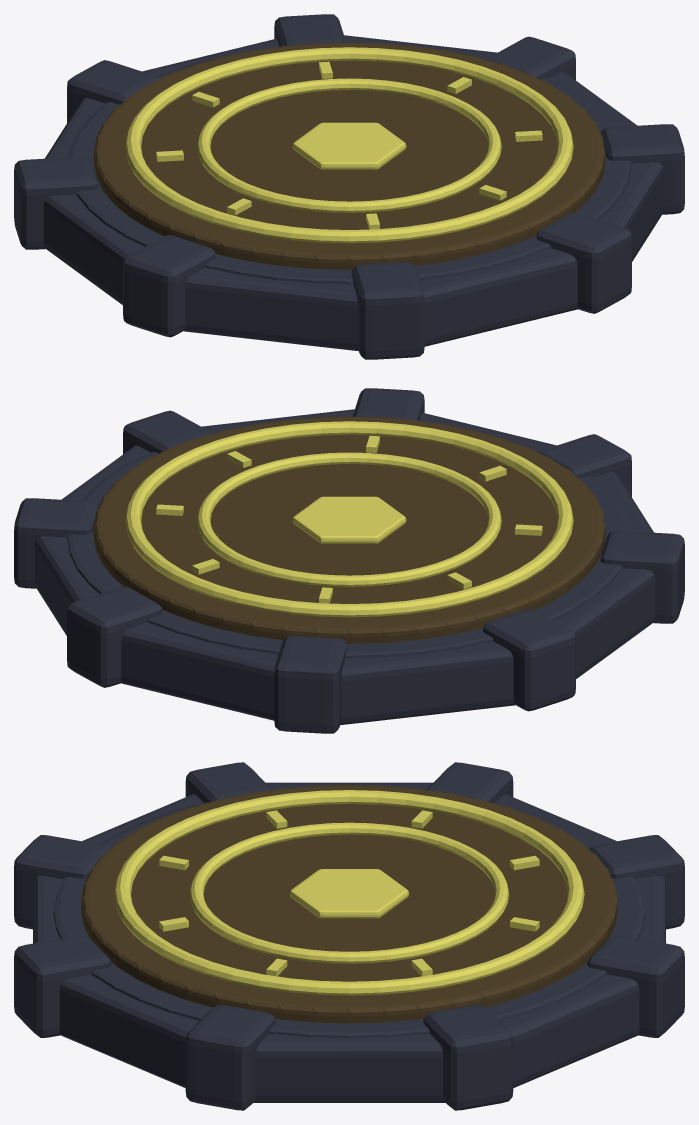
Rendered from AmberPlate.glb.
3 renders of one model, top to bottom at view 1: azimuth 30°, elevation 25°; view 2: azimuth 150°, elevation 25°; view 3: azimuth 270°, elevation 25°, orthographic. The views are drawn at different scales.
Parts seen in each view (by area): view 1: AmberPlate.001; view 2: AmberPlate.001; view 3: AmberPlate.001.
Boxes of the visible parts, bbox=[...] form: AmberPlate.001: bbox=[14, 14, 684, 359]; AmberPlate.001: bbox=[14, 388, 684, 733]; AmberPlate.001: bbox=[14, 762, 684, 1110].
Size of the model in its own units: 0.7248 by 0.1016 by 0.7248.
